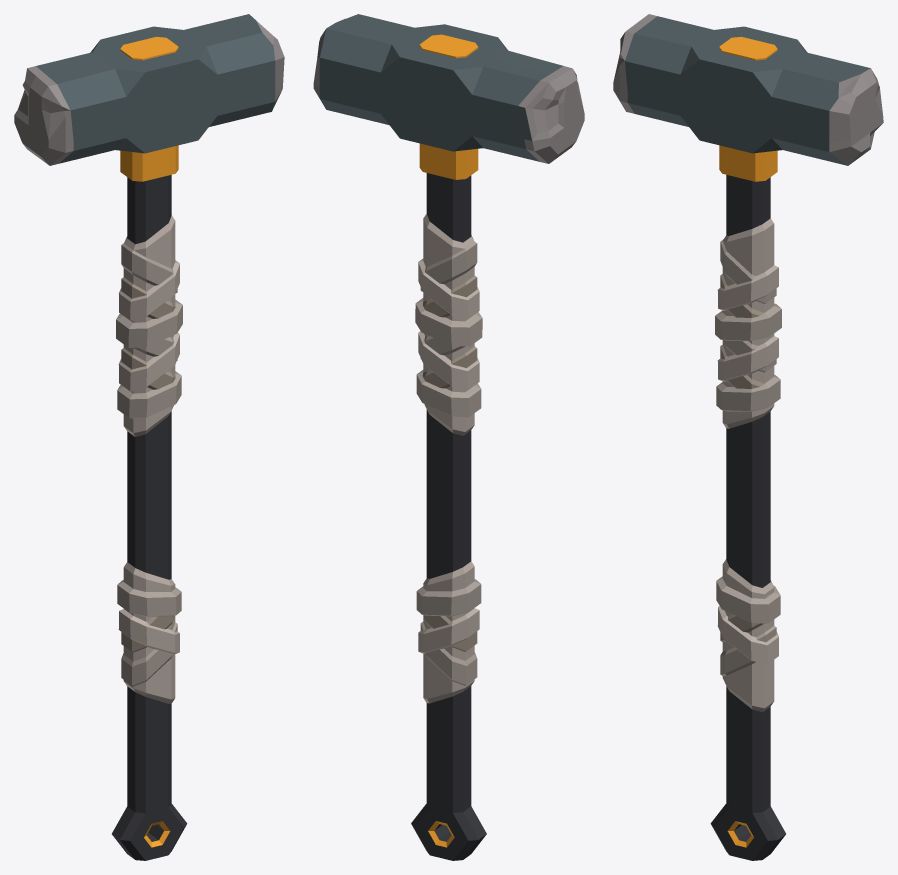
File: SM_Sledgehammer.gltf
The picture shows the model from 3 angles, left to right: view 1: azimuth 30°, elevation 25°; view 2: azimuth 150°, elevation 25°; view 3: azimuth 330°, elevation 25°; orthographic projection.
Visible parts, largest first — view 1: SM_Sledgehammer; view 2: SM_Sledgehammer; view 3: SM_Sledgehammer.
Part boxes in pixels (x1,y1,x2,y2): SM_Sledgehammer: [14, 14, 284, 860]; SM_Sledgehammer: [313, 14, 584, 860]; SM_Sledgehammer: [613, 14, 883, 860].
Bounding box in the file's own units: 0.3294 × 1.06 × 0.1068.
1 material, 1 textured.
